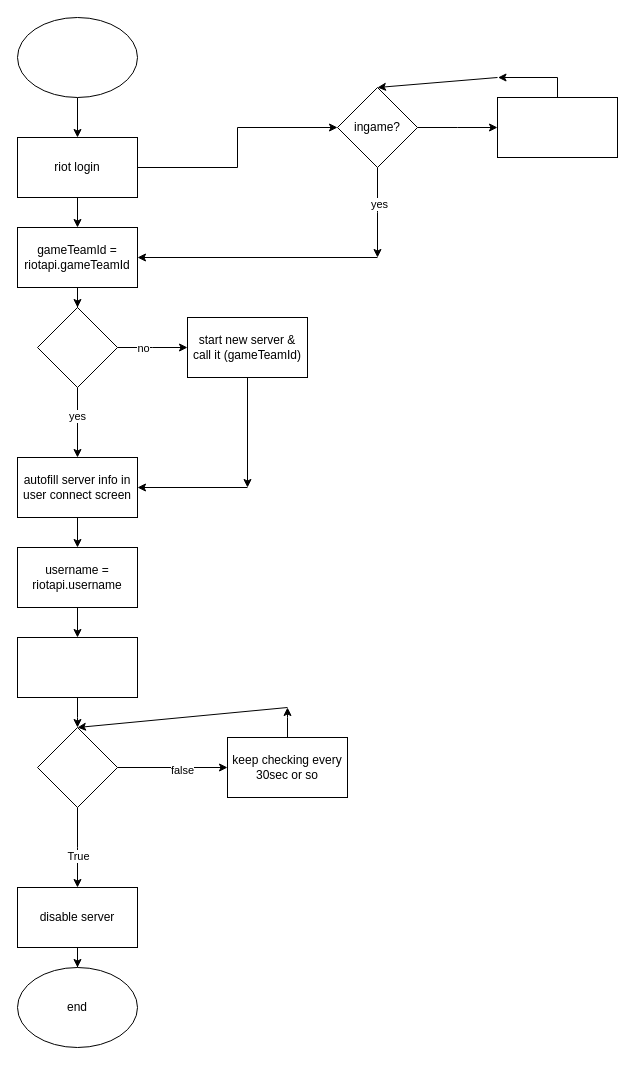
Image size: 635x1065. Some labels were removed from this diagram. The centre of each missing label's shape, as x and y in pixels:
check every time they refresh: the point at 557,127
does server called (gameTeamId) exist?: the point at 77,347
If all users disconnected or 10 minutes elapsed since end of game.: the point at 77,767
start: the point at 77,57
User connects and plays out game: the point at 77,667
